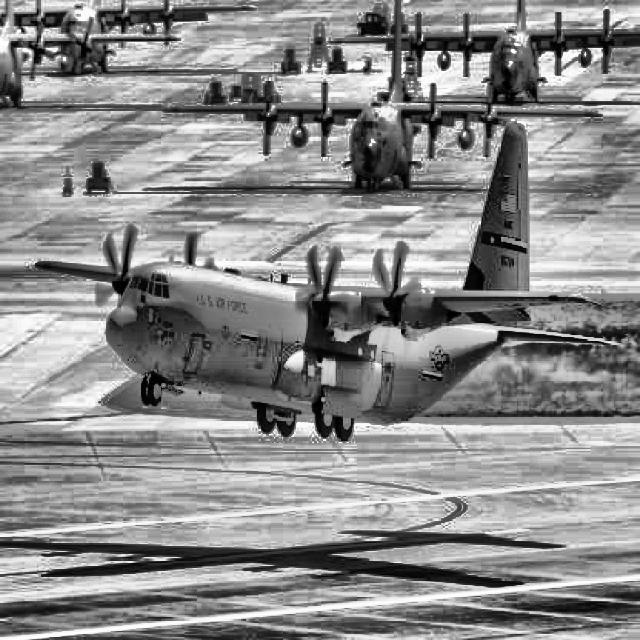C130: (35, 119, 619, 442), (163, 1, 602, 194), (327, 1, 640, 107), (1, 1, 181, 108), (1, 0, 256, 74)
